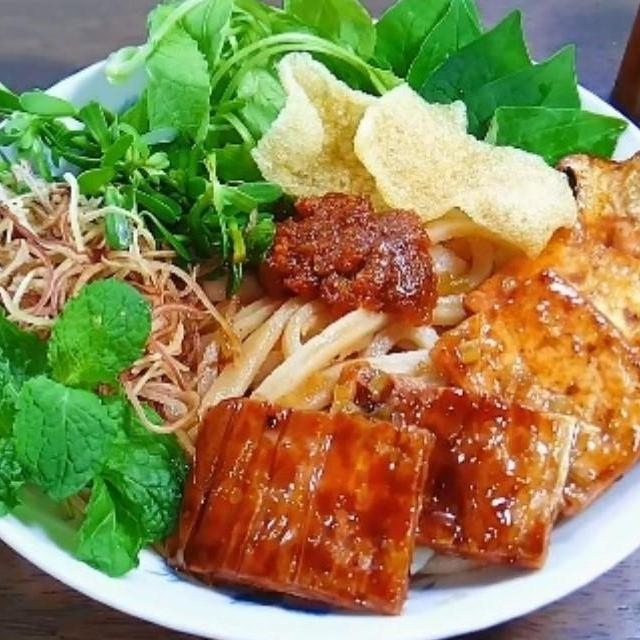banh da: (347, 75, 582, 268), (239, 46, 416, 222)
mi: (162, 200, 500, 467)
mi quang: (0, 34, 640, 640)
thit heo: (158, 389, 440, 622), (422, 260, 640, 523), (328, 356, 580, 578), (455, 217, 640, 390)
